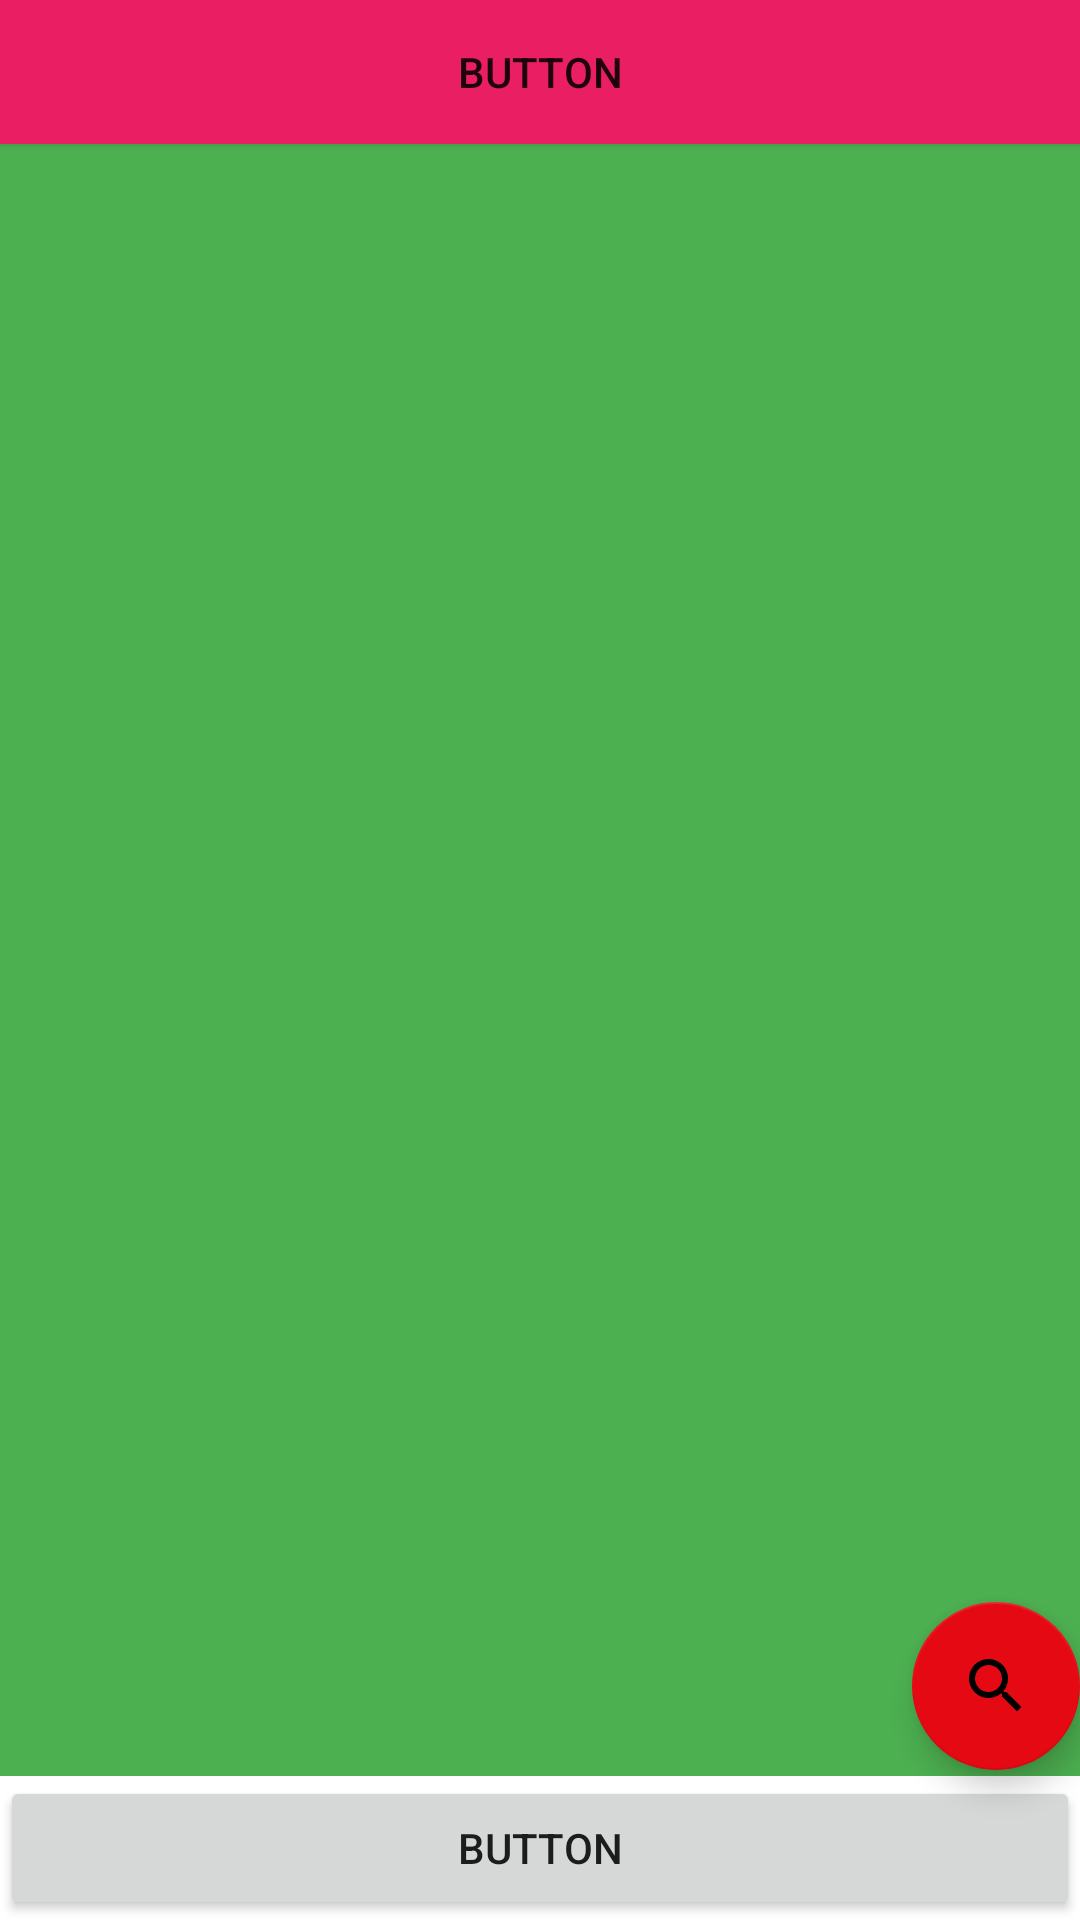

Screen size 1080*1920. Icon name, then its center in pixels as [x,y]:
search: [996,1686]
